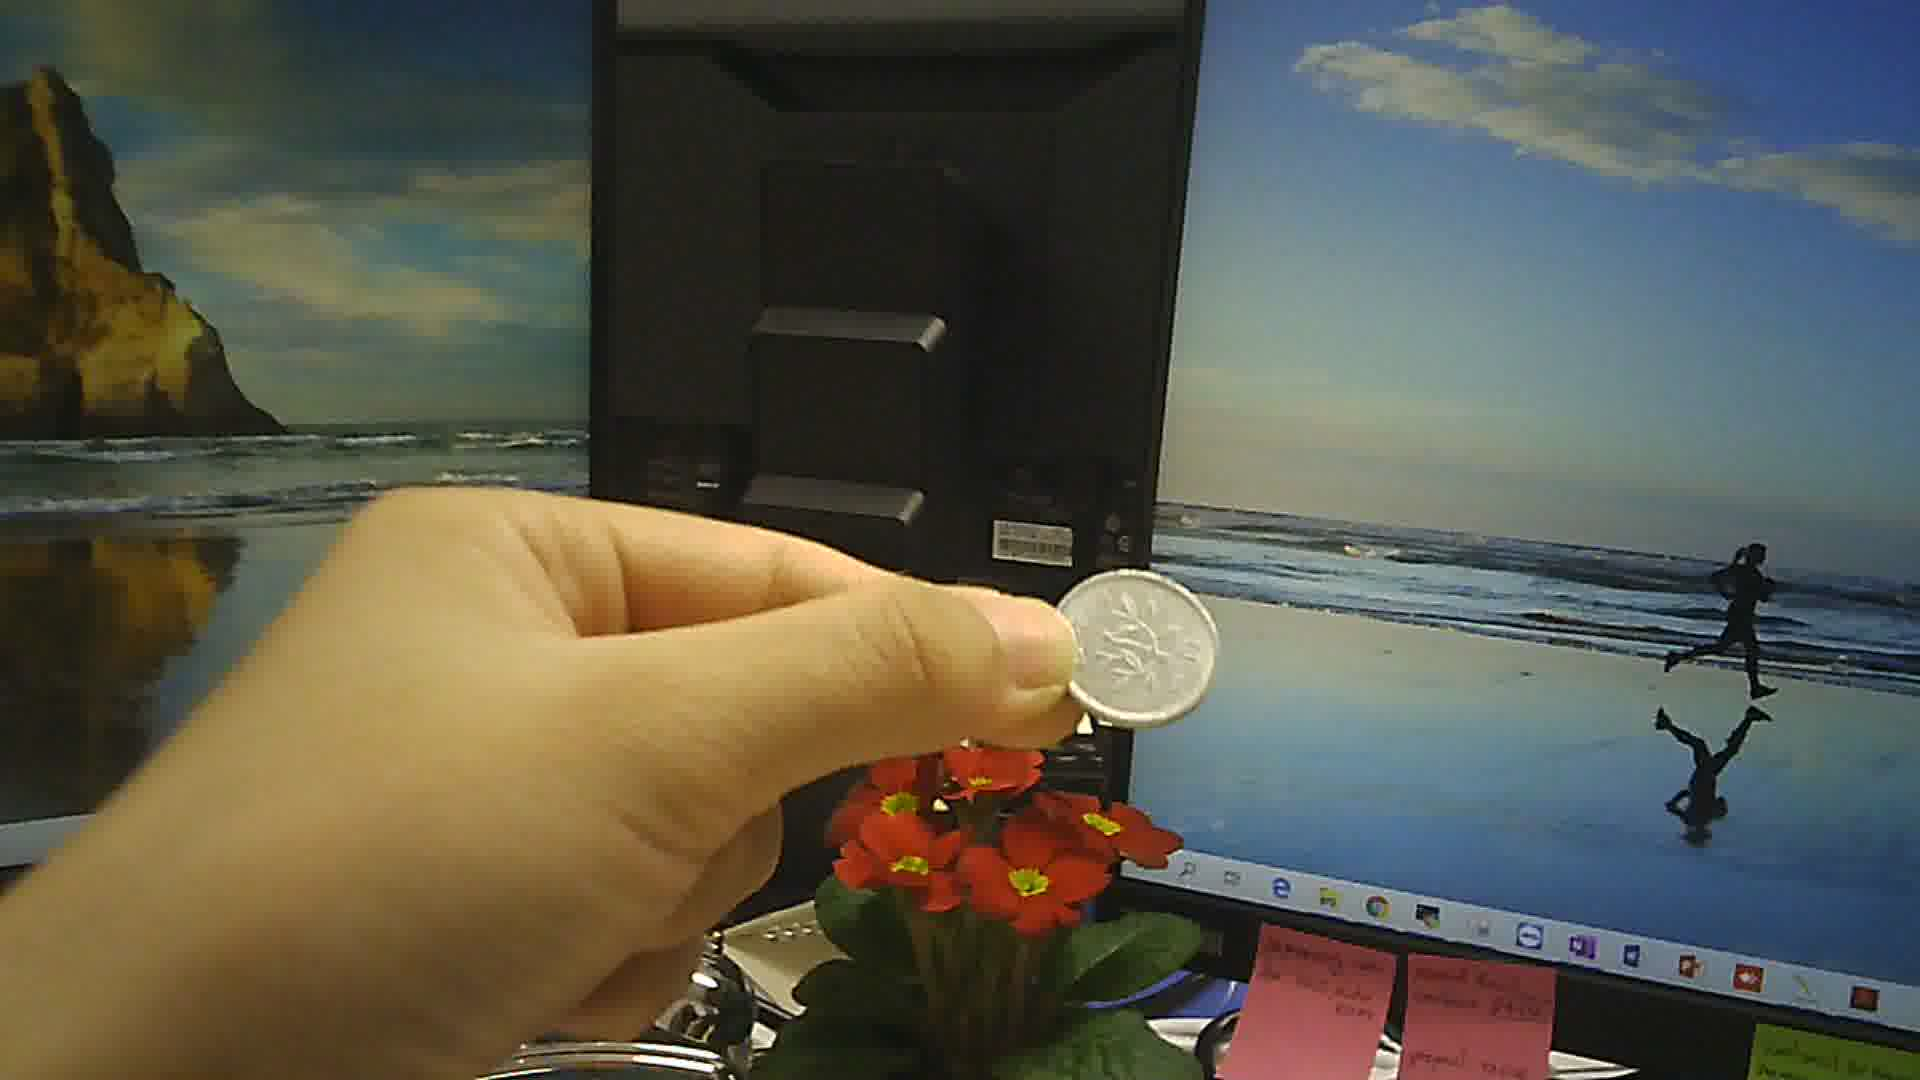1 Yen: (1044, 559, 1225, 731)
